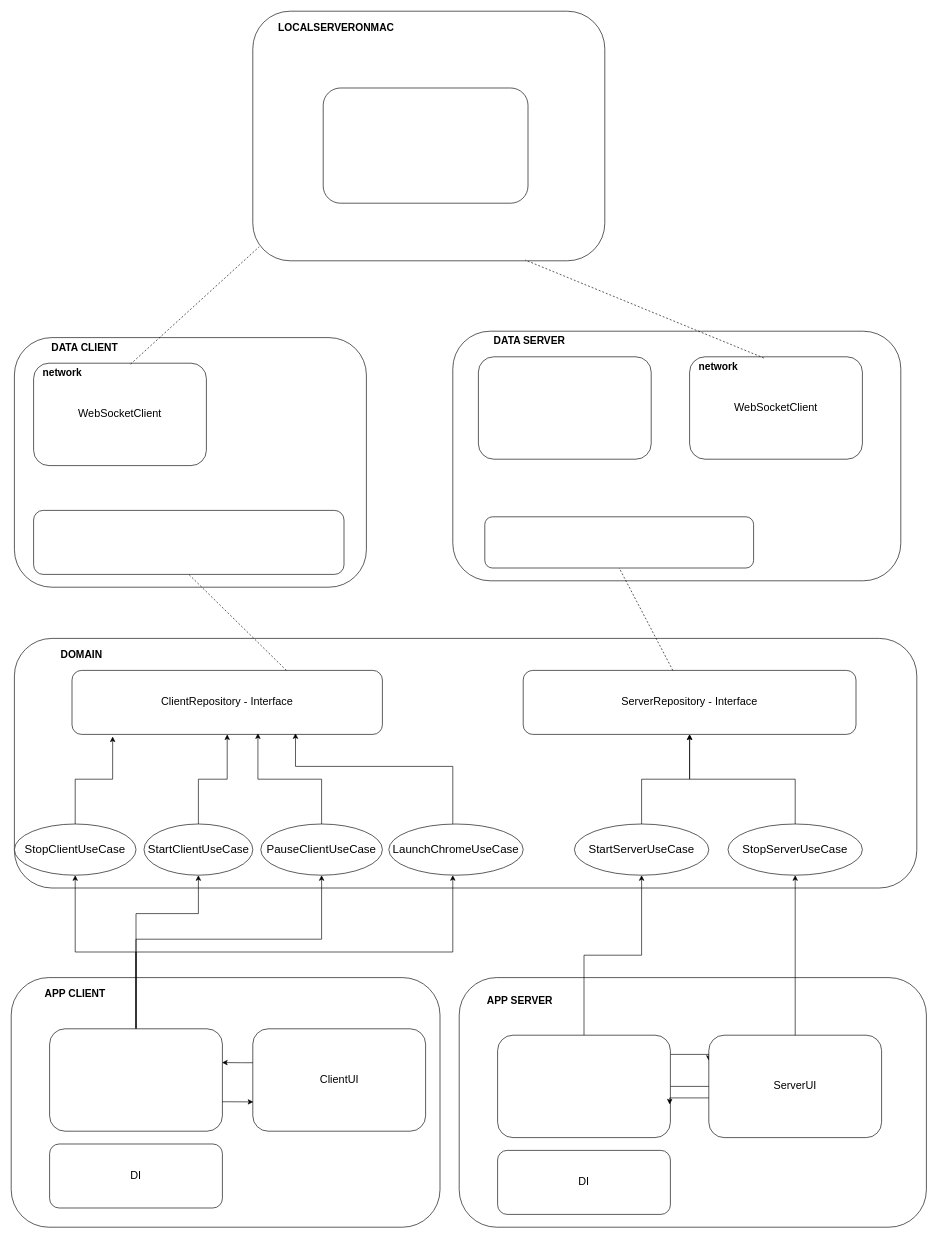
The diagram is 938 pixels wide and 1238 high, and some of its shapes have lost their labels. The shapes that lost their labels are listed below. From the top down, each one's box as (x1, y1, x2, y2) in pixels, then its label:
(323, 87, 528, 203): LocalServer
(478, 356, 651, 459): storage
(33, 510, 344, 574): ClientRepositoryImpl - Implementation
(484, 516, 754, 568): ServerRepositoryImpl - Implementation
(49, 1028, 222, 1131): ClientViewModel
(497, 1035, 670, 1138): ServerViewModel
